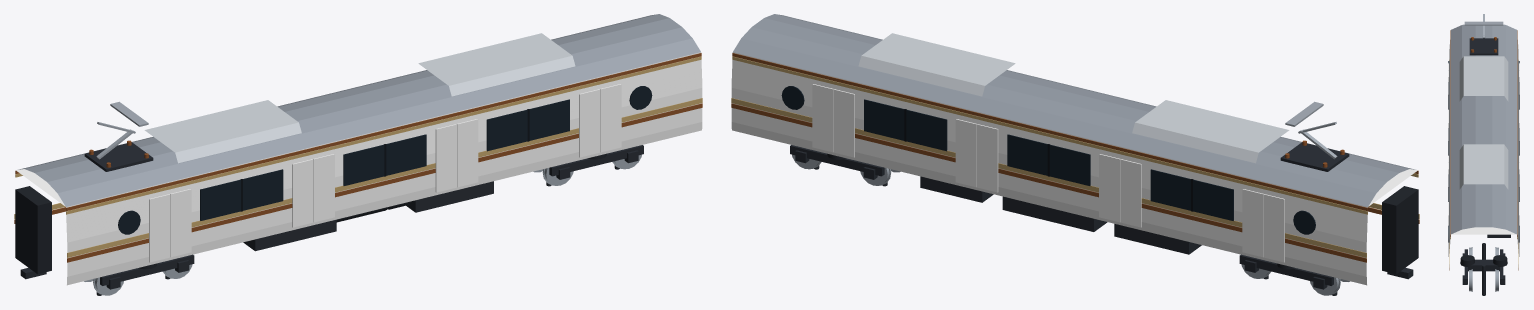
The model's file is tokyo-metro-17000-mid.glb.
The picture shows the model from 3 angles, left to right: view 1: azimuth 30°, elevation 25°; view 2: azimuth 150°, elevation 25°; view 3: azimuth 270°, elevation 25°; orthographic projection. The views are drawn at different scales.
Parts seen in each view (by area): view 1: Body_Shell, Roof_Crown, Roof_HVAC (×2), Car_Canonical, Doors_And_Windows, Gangway_Rear, Underfloor_Equipment, Door_R_4_Rear, Door_R_1_Fwd, Door_R_1_Rear, Door_R_2_Rear, Door_R_3_Fwd (+7 smaller); view 2: Body_Shell, Roof_Crown, Roof_HVAC (×2), Car_Canonical, Doors_And_Windows, Underfloor_Equipment, Gangway_Rear, Door_L_4_Rear, Door_L_1_Fwd, Door_L_1_Rear, Door_L_2_Rear, Door_L_3_Fwd (+7 smaller); view 3: Roof_Crown, Roof_HVAC (×2), Body_Shell, Bogie_Front, Doors_And_Windows, Pantograph, Car_Canonical, Wheelset_Front, Pantograph_Arm, Wheelset_Rear, Underfloor_Equipment.
Part boxes in pixels (x1,y1,x2,y2): Body_Shell: (16,52,702,285); Roof_Crown: (18,14,700,206); Roof_HVAC (×2): (144,33,575,163); Car_Canonical: (14,53,702,262); Doors_And_Windows: (118,86,652,234); Gangway_Rear: (15,186,51,279); Underfloor_Equipment: (243,181,493,251); Door_R_4_Rear: (579,89,600,157); Door_R_1_Fwd: (170,189,191,257); Door_R_1_Rear: (149,194,170,262); Door_R_2_Rear: (292,159,313,227); Door_R_3_Fwd: (457,119,478,187); Body_Shell: (731,52,1417,285); Roof_Crown: (733,14,1415,206); Roof_HVAC (×2): (858,33,1289,163); Car_Canonical: (731,53,1419,262); Doors_And_Windows: (781,86,1315,234); Underfloor_Equipment: (920,176,1201,254); Gangway_Rear: (1382,186,1418,279); Door_L_4_Rear: (833,89,854,157); Door_L_1_Fwd: (1242,189,1263,257); Door_L_1_Rear: (1263,194,1284,262); Door_L_2_Rear: (1120,159,1141,227); Door_L_3_Fwd: (955,119,976,187); Roof_Crown: (1451,24,1516,234); Roof_HVAC (×2): (1459,56,1508,189); Body_Shell: (1449,30,1518,253); Bogie_Front: (1460,249,1507,284); Doors_And_Windows: (1448,61,1519,242); Pantograph: (1469,37,1498,55); Car_Canonical: (1449,30,1518,270); Wheelset_Front: (1469,265,1498,295); Pantograph_Arm: (1464,14,1503,38); Wheelset_Rear: (1469,243,1498,259); Underfloor_Equipment: (1487,234,1510,237).
Size of the model in its own units: 20.04 by 5.1 by 2.88.
